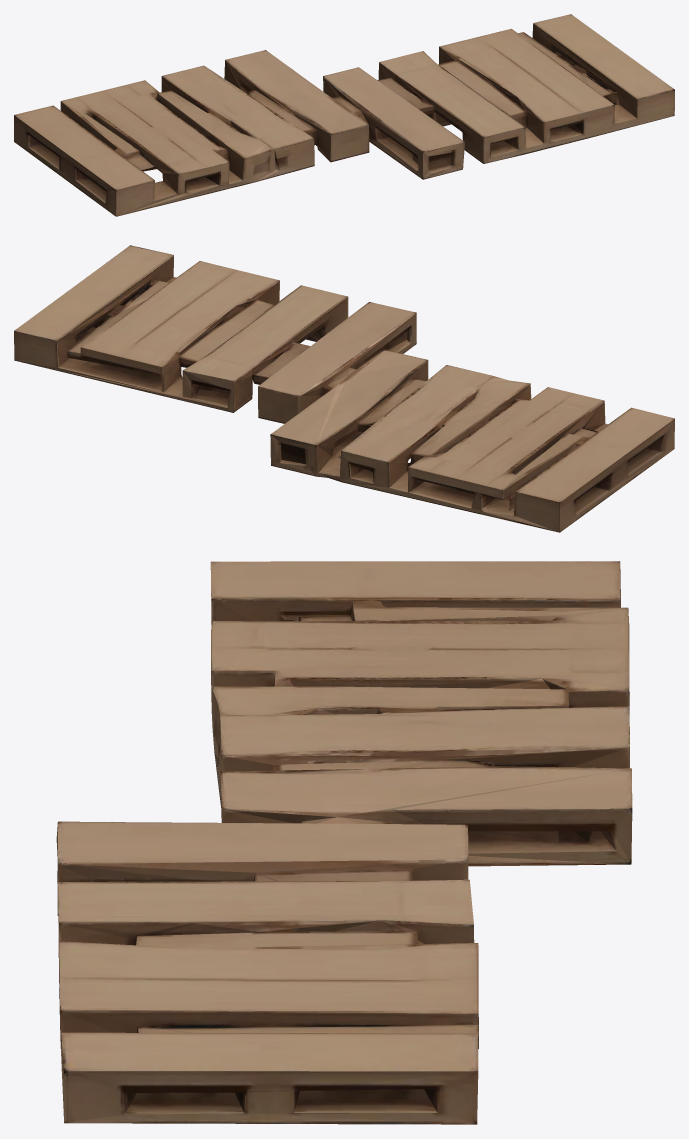
Rendered from pallet.glb.
3 views of the same model, one above another, from view 1: azimuth 30°, elevation 25°; view 2: azimuth 150°, elevation 25°; view 3: azimuth 270°, elevation 25° (orthographic). The views are drawn at different scales.
Visible parts, largest first — view 1: geometry_0; view 2: geometry_0; view 3: geometry_0.
Boxes of the visible parts, left/top/right/bottom form: geometry_0: left=14, top=14, right=674, bottom=216; geometry_0: left=14, top=245, right=674, bottom=532; geometry_0: left=56, top=561, right=632, bottom=1124.
Bounding box in the file's own units: 0.9995 × 0.0517 × 0.4771.
1 material, 1 textured.
